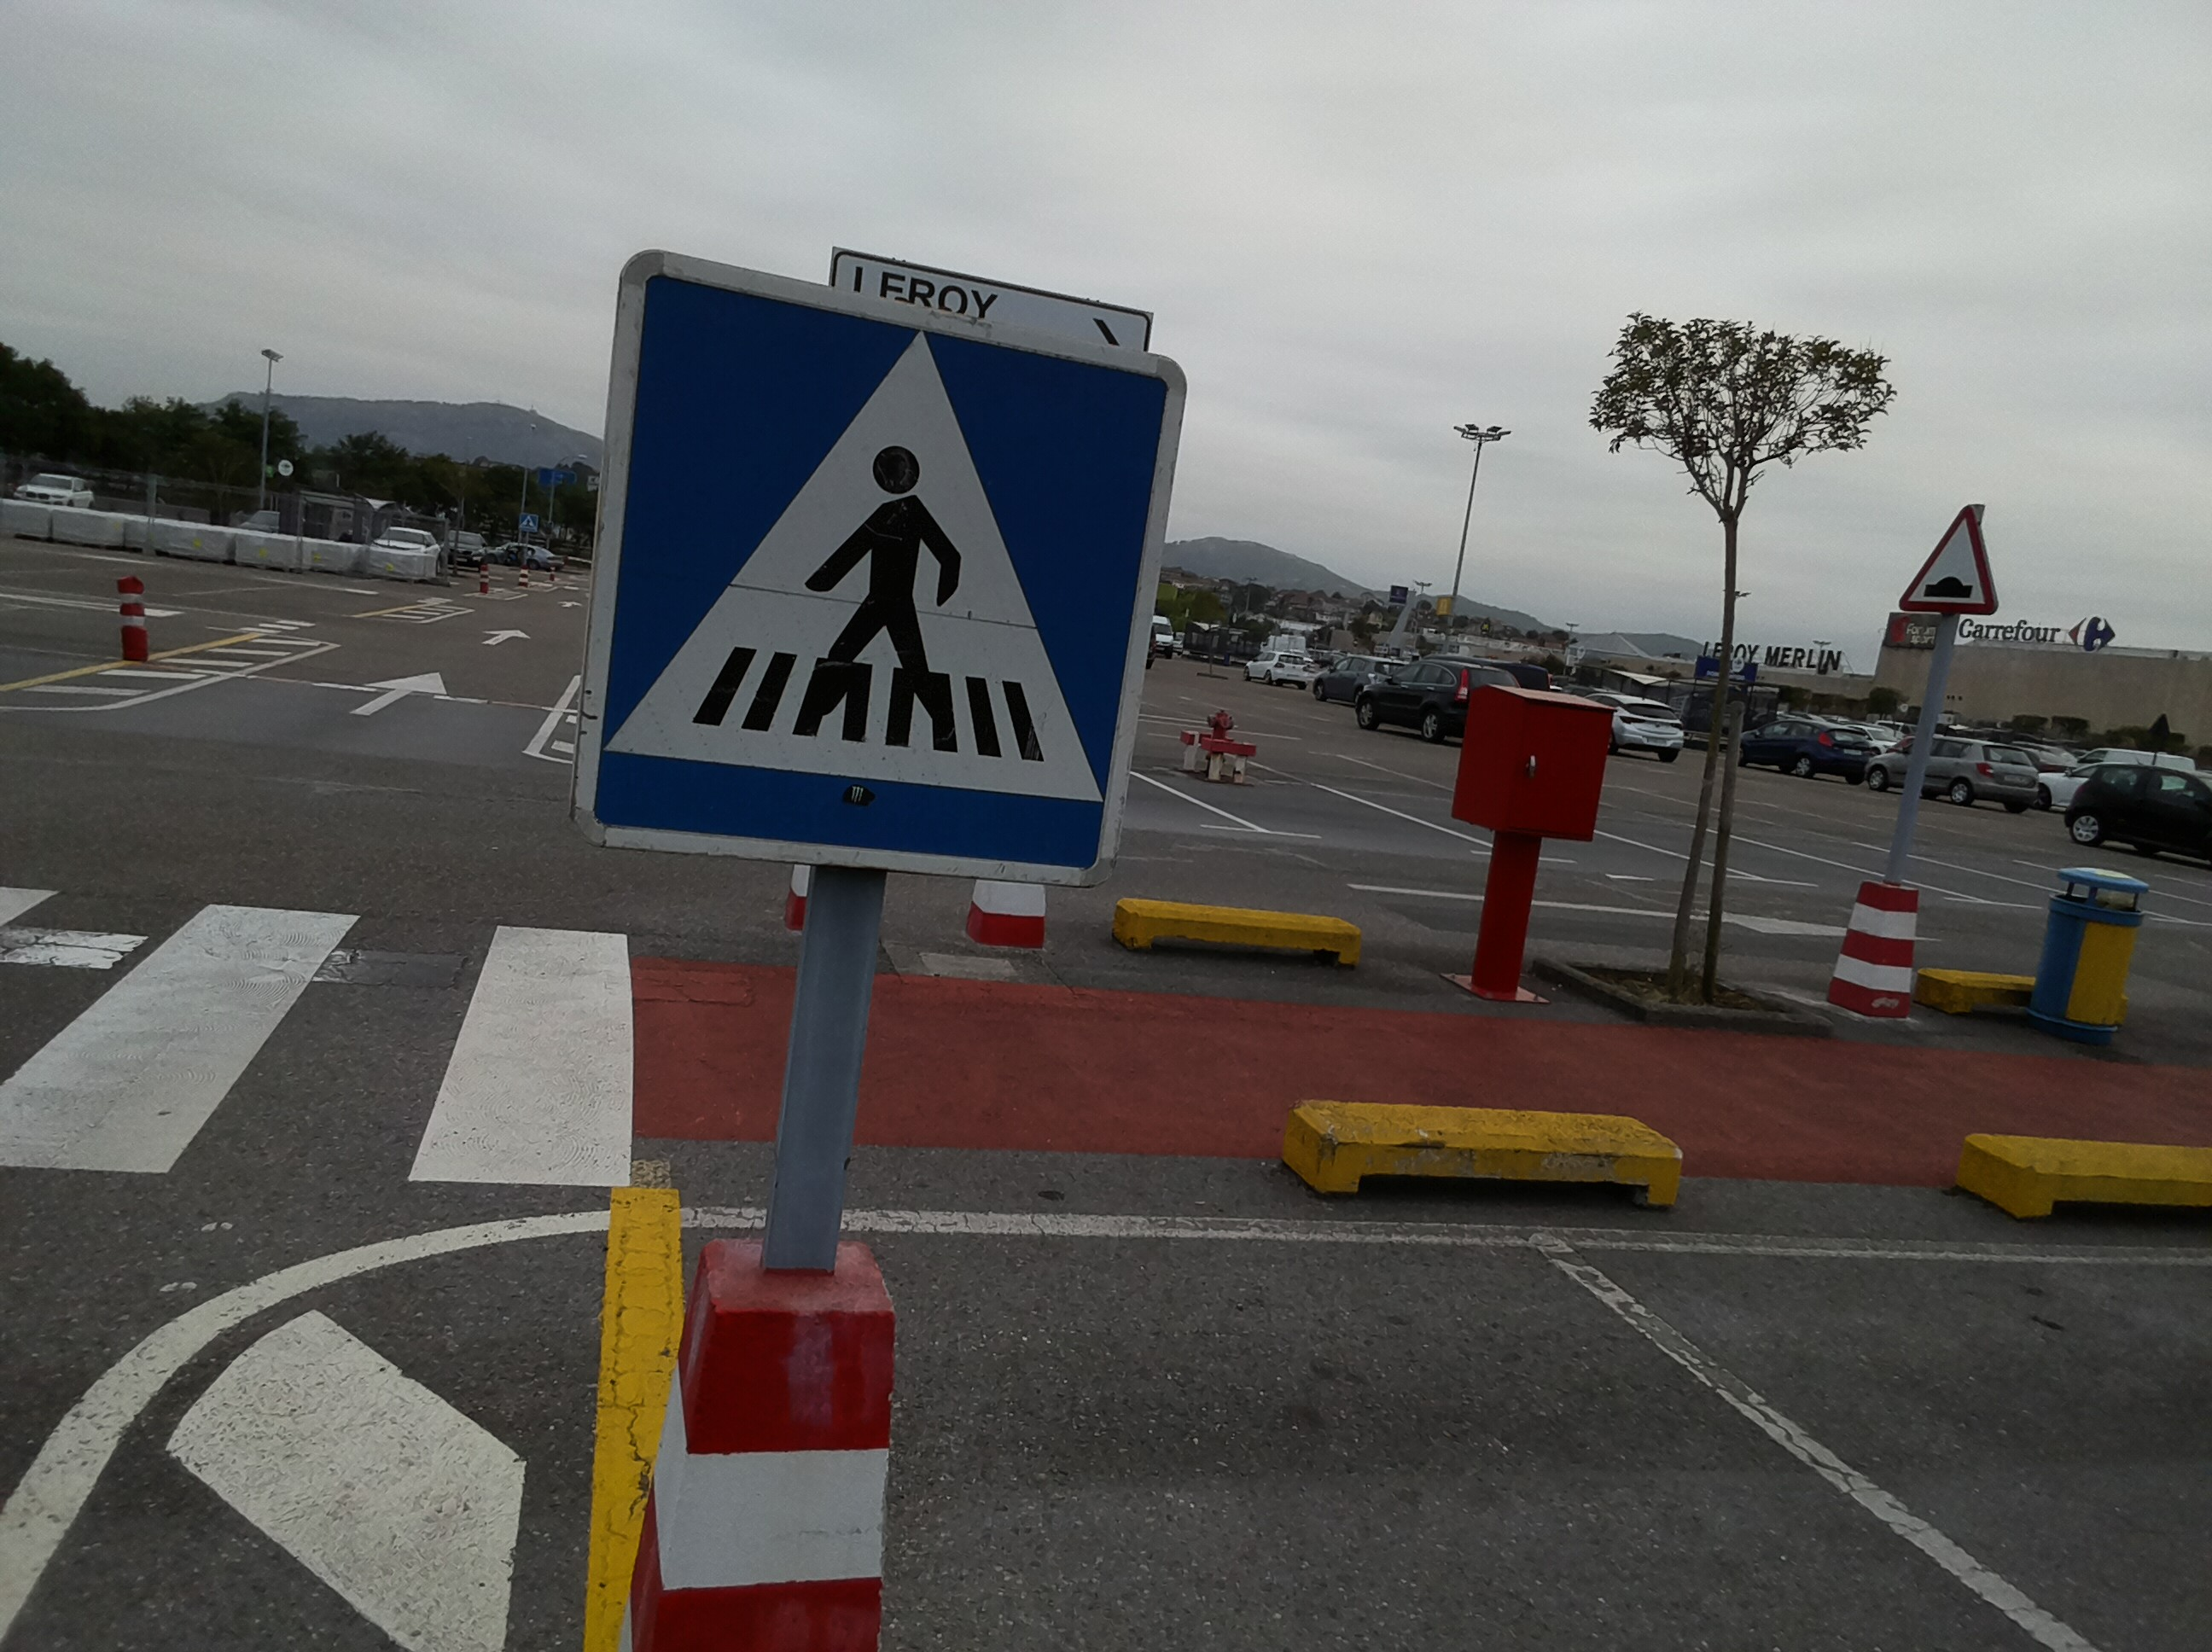Cartel: (567, 236, 1183, 904)
Poste: (616, 1222, 913, 1652), (776, 833, 866, 1281)
